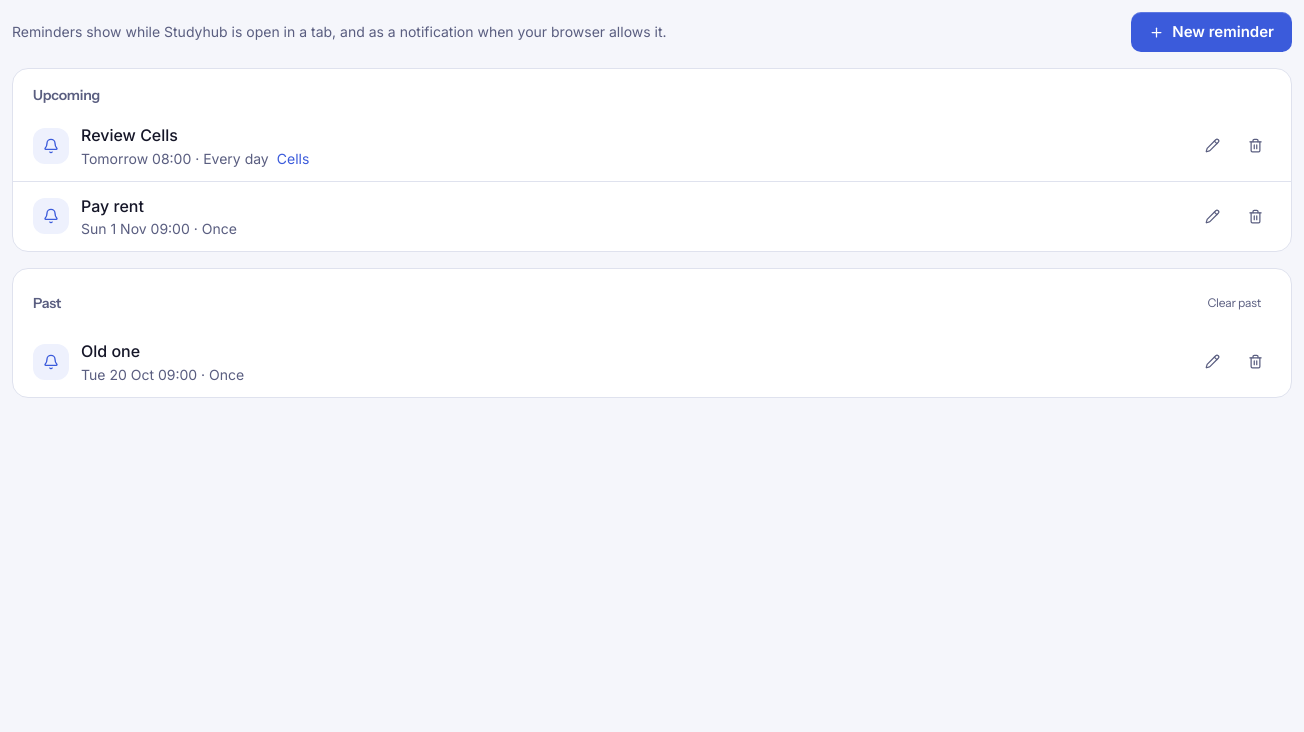
it: the reminders list › deletes one, and clears everything past at once
The image size is (1304, 732).
What coordinates should you click on to do the following:
click the button named "Delete Review Cells"
I would click on:
 (1256, 146)
Its box is [1240,128,1271,164].
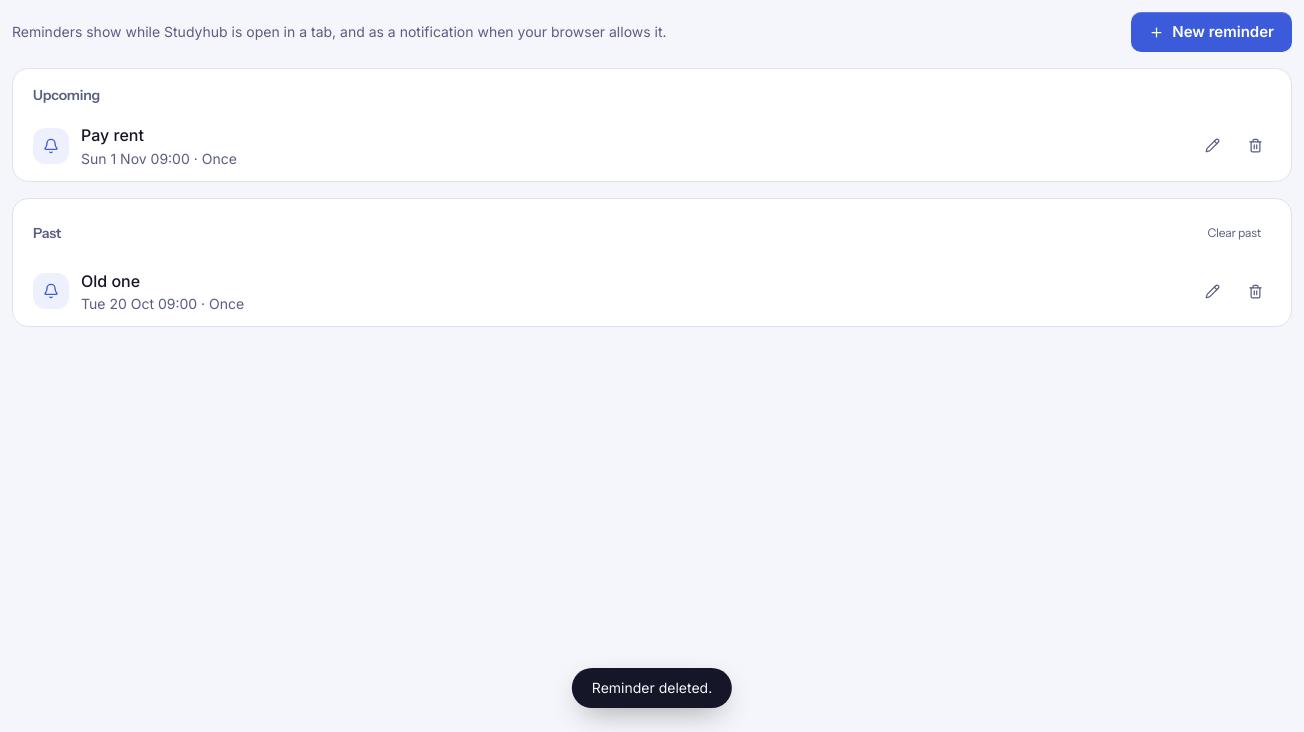
What coordinates should you click on to do the following:
click the button "Clear past"
I would click on:
 (1234, 233)
Its box is [1197,215,1271,251].
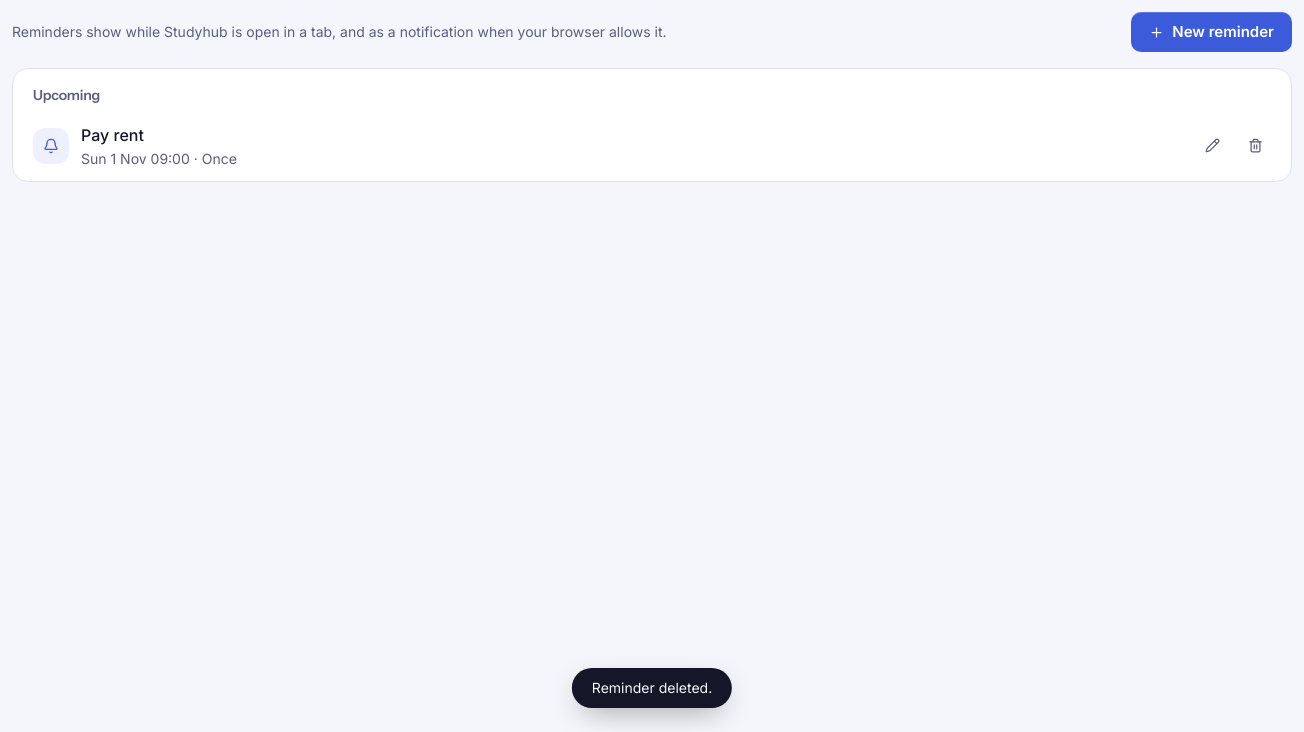
Expected: the button "past" is gone
